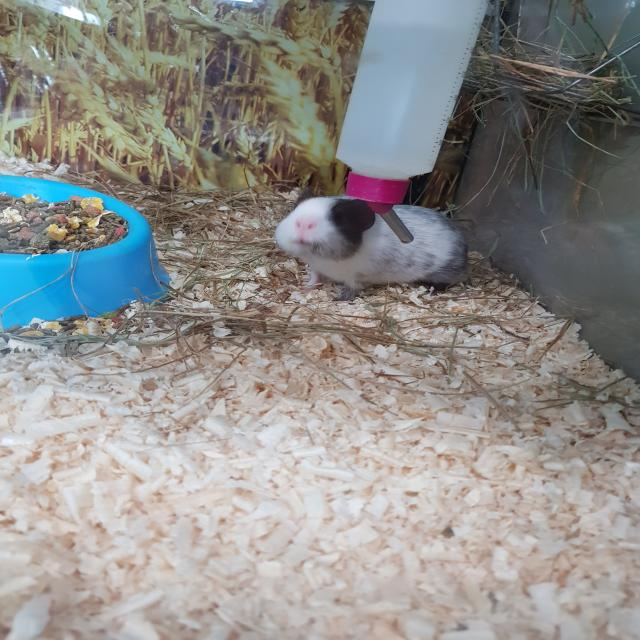guinea pig: (254, 186, 474, 302)
